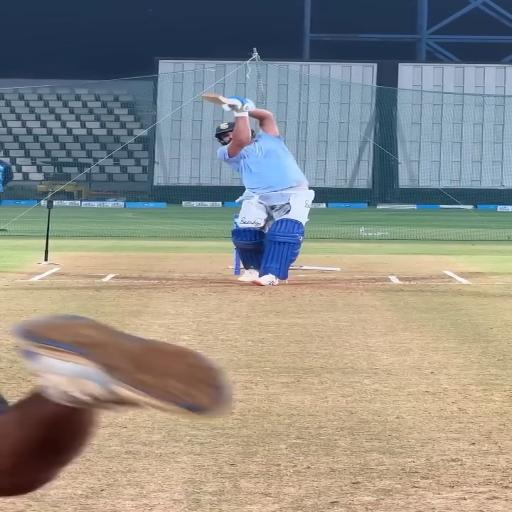Cricket bat: (203, 94, 233, 105)
